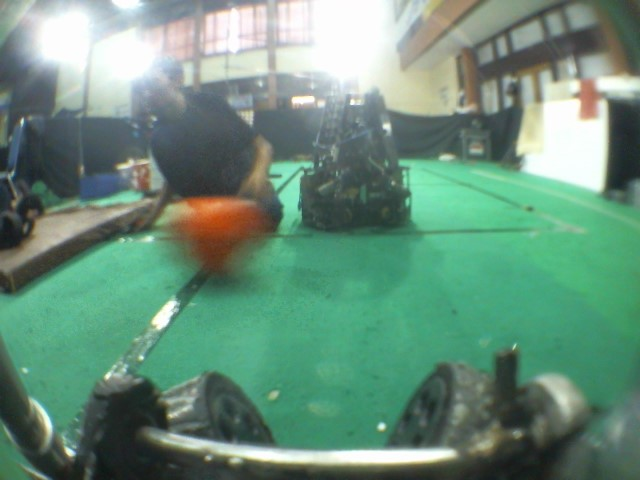ball: (159, 195, 279, 294)
